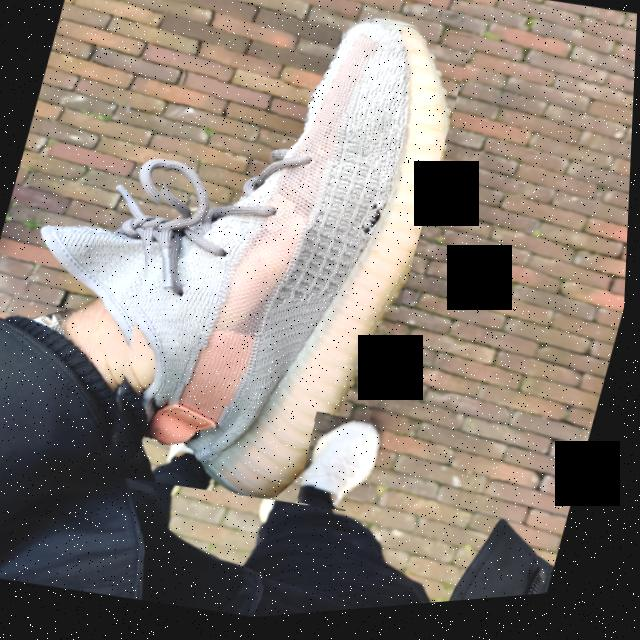shoe: (74, 0, 477, 535), (296, 412, 391, 523)
